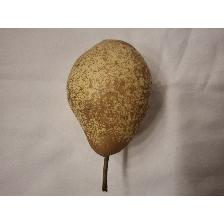Birne: (64, 38, 154, 192)
